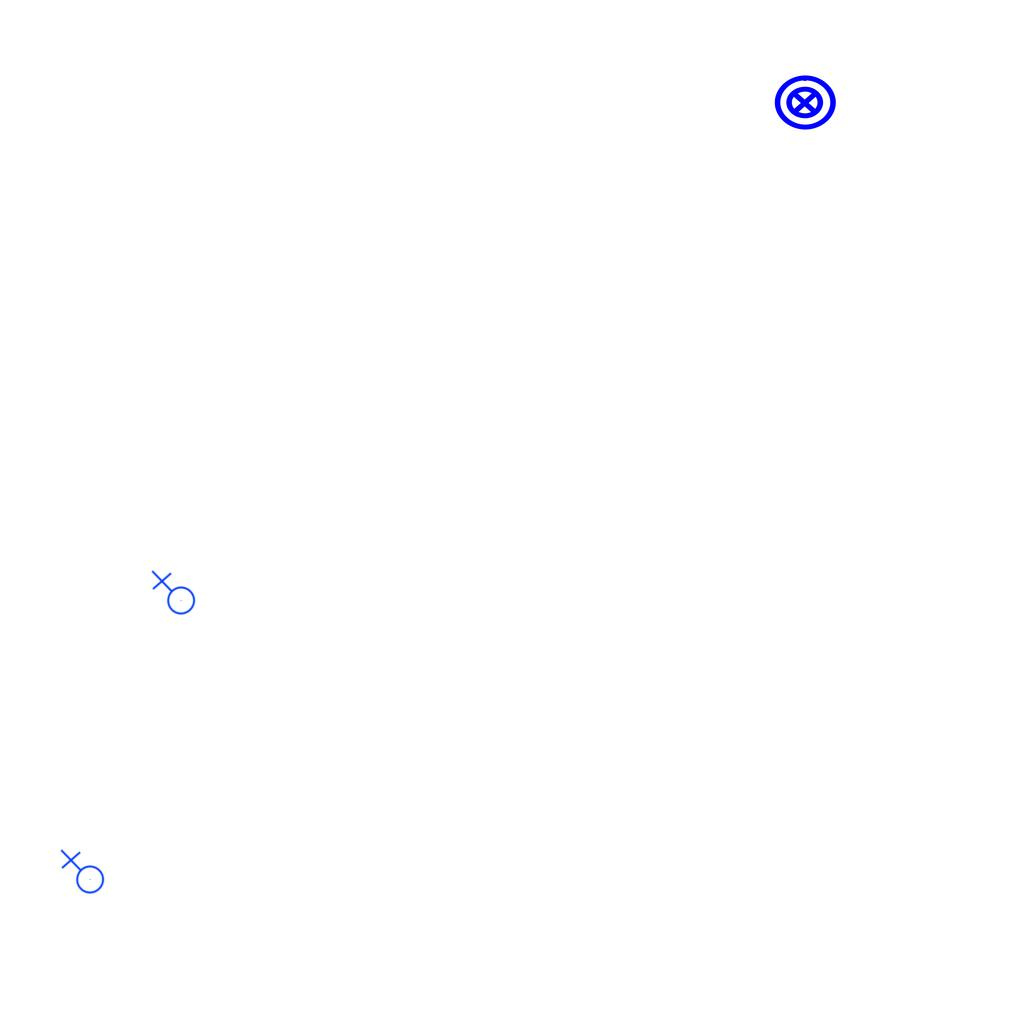Elektroanschluss_allgemein_230V_Geraeteanschlussdose_230V: (58, 849, 105, 898), (149, 570, 196, 619)
Taster_beleuchtet: (772, 70, 838, 136)
